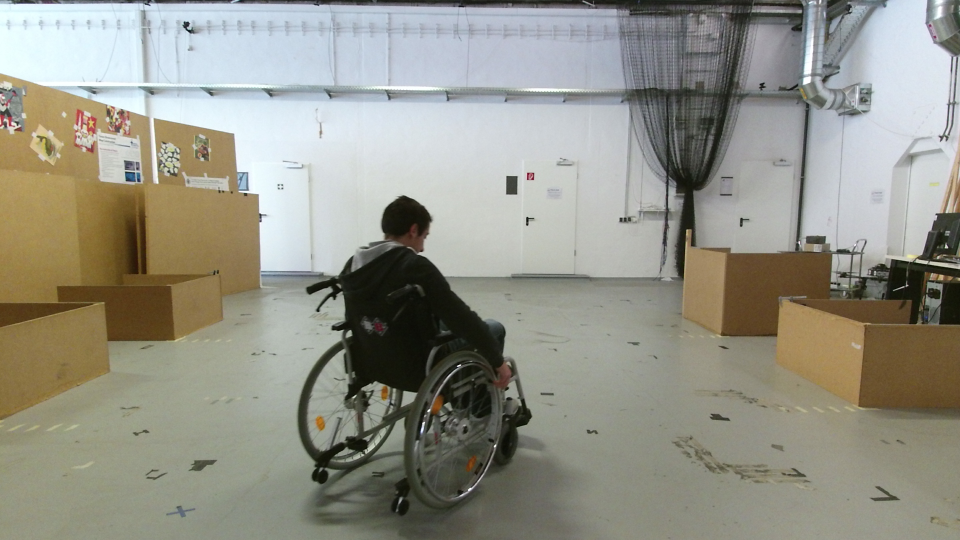wheelchair: (293, 190, 536, 519)
